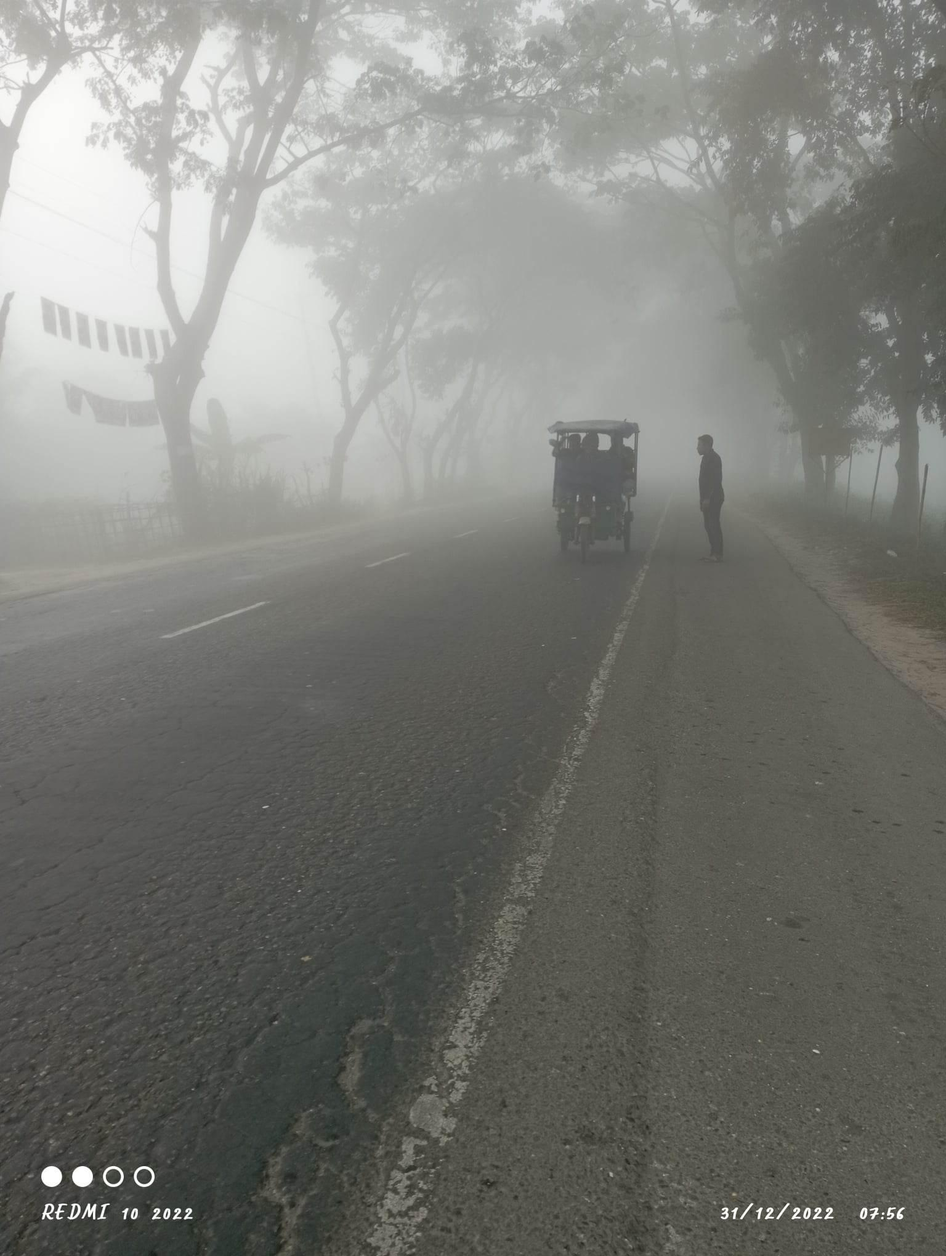Car: (520, 400, 668, 566)
